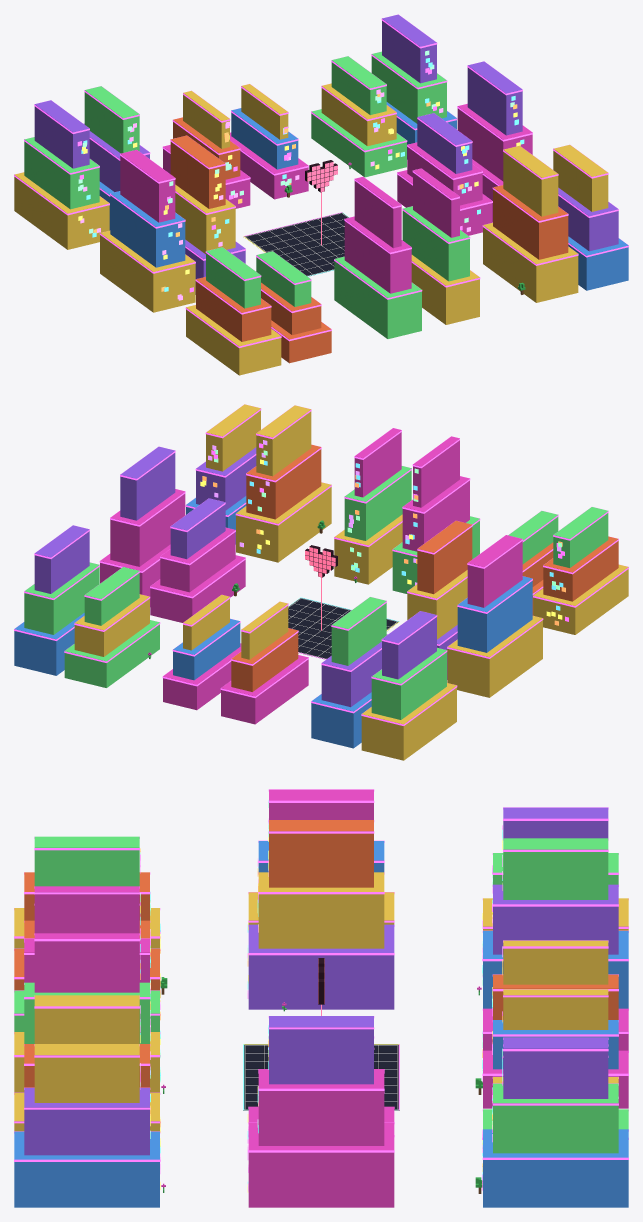
3 renders of one model, top to bottom at view 1: azimuth 30°, elevation 25°; view 2: azimuth 150°, elevation 25°; view 3: azimuth 270°, elevation 25°, orthographic. The views are drawn at different scales.
Parts seen in each view (by area): view 1: district_city_pixel.lod0; view 2: district_city_pixel.lod0; view 3: district_city_pixel.lod0.
Boxes of the visible parts, x1,y1,x2,y2 form: district_city_pixel.lod0: (14,14,628,375); district_city_pixel.lod0: (14,404,628,760); district_city_pixel.lod0: (14,789,628,1207).
Size of the model in its own units: 97.1 by 29.96 by 97.1.
